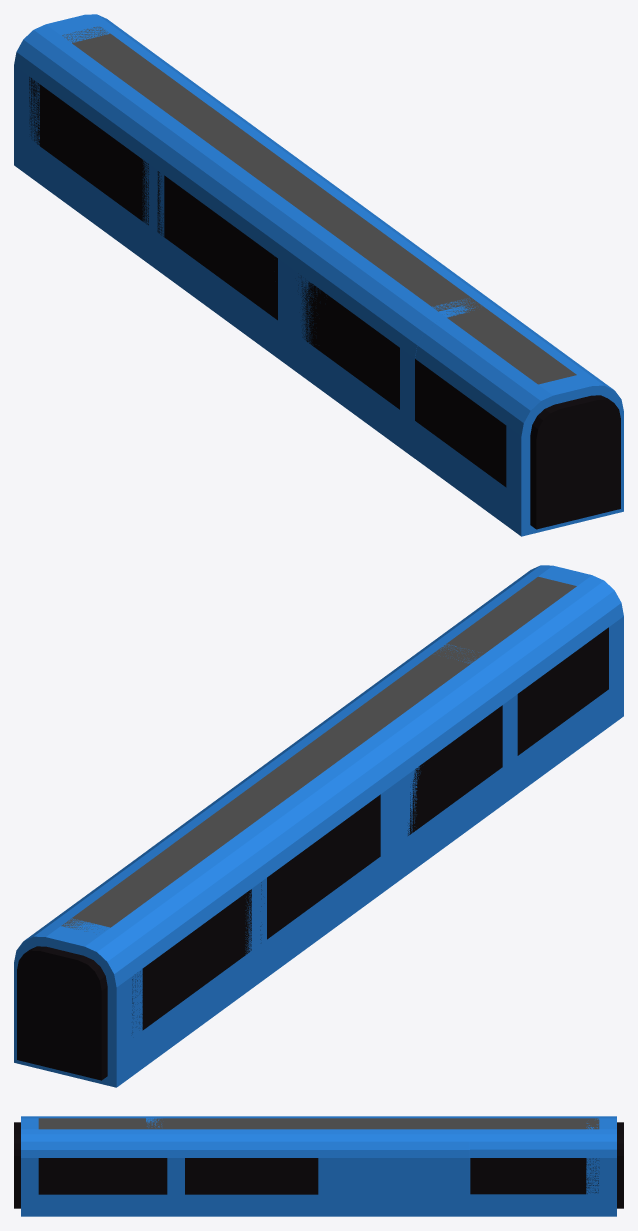
File: trains.glb
3 views of the same model, one above another, from view 1: azimuth 30°, elevation 25°; view 2: azimuth 150°, elevation 25°; view 3: azimuth 270°, elevation 25° (orthographic). The views are drawn at different scales.
Parts seen in each view (by area): view 1: train_milieu, train_avant, train_arrière; view 2: train_avant, train_milieu, train_arrière; view 3: train_arrière, train_avant, train_milieu.
Boxes of the visible parts, x1,y1,x2,y2 form: train_milieu: (14, 14, 475, 458); train_avant: (25, 22, 471, 391); train_arrière: (172, 106, 623, 536); train_avant: (43, 650, 491, 1079); train_milieu: (14, 644, 517, 1087); train_arrière: (149, 565, 623, 854); train_arrière: (14, 1116, 470, 1216); train_avant: (156, 1116, 603, 1216); train_milieu: (146, 1116, 623, 1216).
Bounding box in the file's own units: 3.09 × 3.83 × 27.03.
